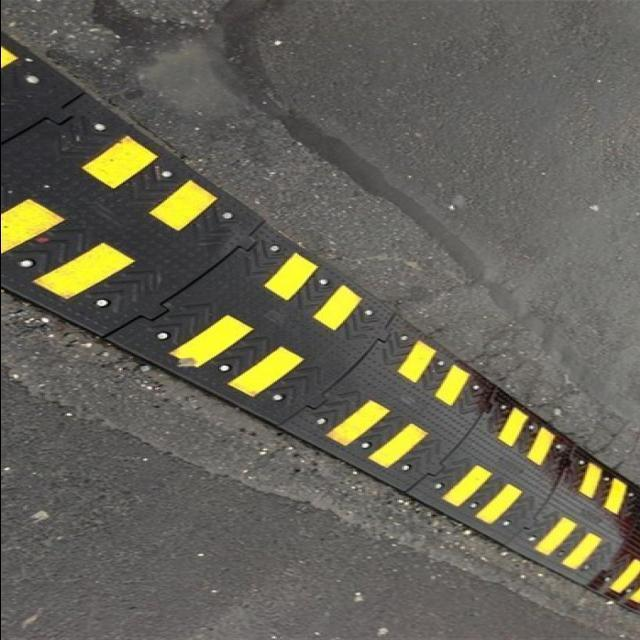speedbreaker: (0, 28, 640, 616)
